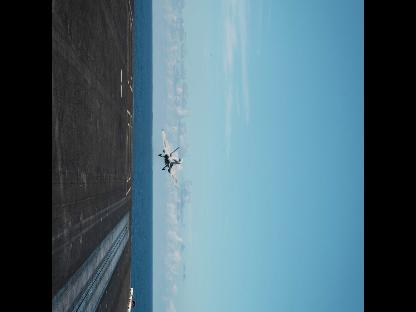F15: (160, 130, 184, 188)
